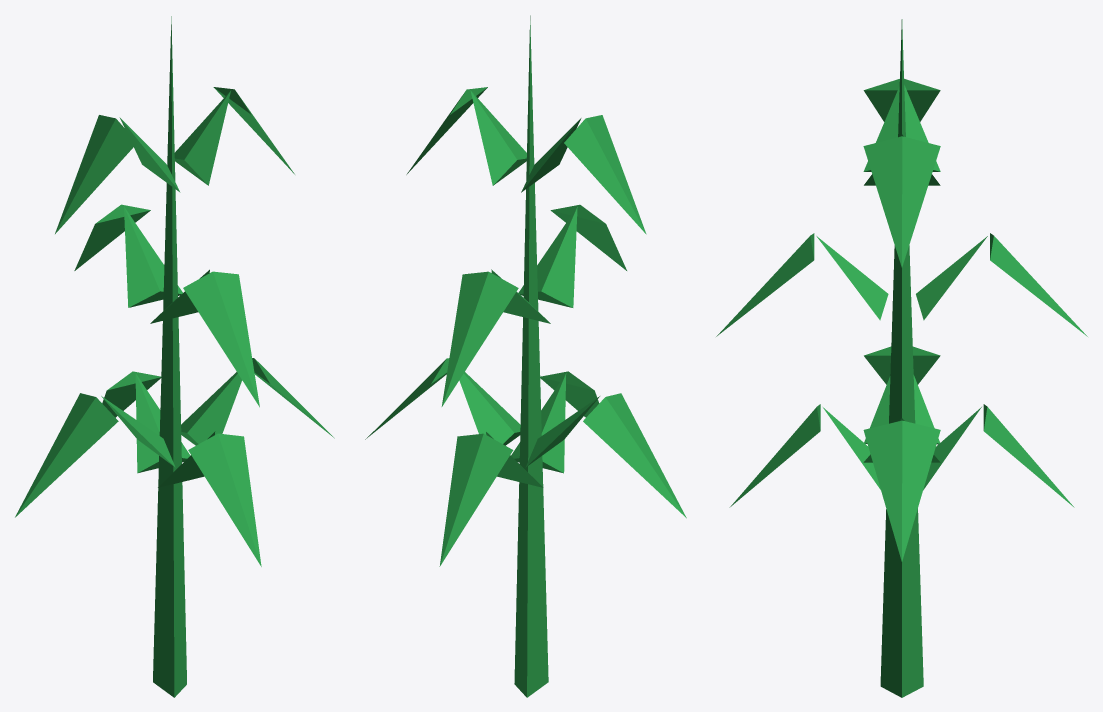
File: corn_plant2.obj
The picture shows the model from 3 angles, left to right: view 1: azimuth 30°, elevation 25°; view 2: azimuth 150°, elevation 25°; view 3: azimuth 270°, elevation 25°; orthographic projection.
Visible parts, largest first — view 1: Object.1, Object.7, Object.15, Object.3, Object.11, Object.8, Object.12, Object.4, Object.16, Object.9, Object.17, Object.2 (+5 smaller); view 2: Object.1, Object.9, Object.17, Object.3, Object.11, Object.6, Object.12, Object.4, Object.14, Object.7, Object.15, Object.2 (+5 smaller); view 3: Object.1, Object.5, Object.13, Object.11, Object.7, Object.9, Object.17, Object.15, Object.10, Object.6, Object.8, Object.3 (+3 smaller).
Boxes of the visible parts, x1,y1,x2,y2 form: Object.1: (153, 16, 186, 697); Object.7: (183, 271, 259, 407); Object.15: (188, 433, 261, 566); Object.3: (15, 393, 118, 517); Object.11: (55, 115, 136, 233); Object.8: (124, 207, 182, 307); Object.12: (174, 90, 230, 185); Object.4: (181, 372, 242, 445); Object.16: (135, 373, 190, 473); Object.9: (74, 204, 150, 270); Object.17: (102, 371, 161, 417); Object.2: (101, 396, 175, 467); Object.1: (514, 15, 548, 697); Object.9: (441, 271, 518, 406); Object.17: (439, 433, 513, 566); Object.3: (583, 393, 686, 518); Object.11: (564, 115, 646, 234); Object.6: (518, 206, 577, 307); Object.12: (470, 90, 526, 185); Object.4: (459, 372, 520, 445); Object.14: (511, 373, 566, 473); Object.7: (550, 204, 626, 270); Object.15: (540, 371, 599, 417); Object.2: (525, 396, 599, 467); Object.1: (880, 19, 923, 697); Object.5: (863, 420, 940, 561); Object.13: (863, 136, 940, 267); Object.11: (863, 78, 940, 121); Object.7: (716, 233, 814, 336); Object.9: (990, 233, 1087, 336); Object.17: (983, 404, 1074, 507); Object.15: (729, 404, 820, 507); Object.10: (863, 85, 940, 171); Object.6: (816, 236, 888, 320); Object.8: (916, 236, 987, 320); Object.3: (864, 346, 940, 384).
Size of the model in its own units: 1 by 2 by 1.
